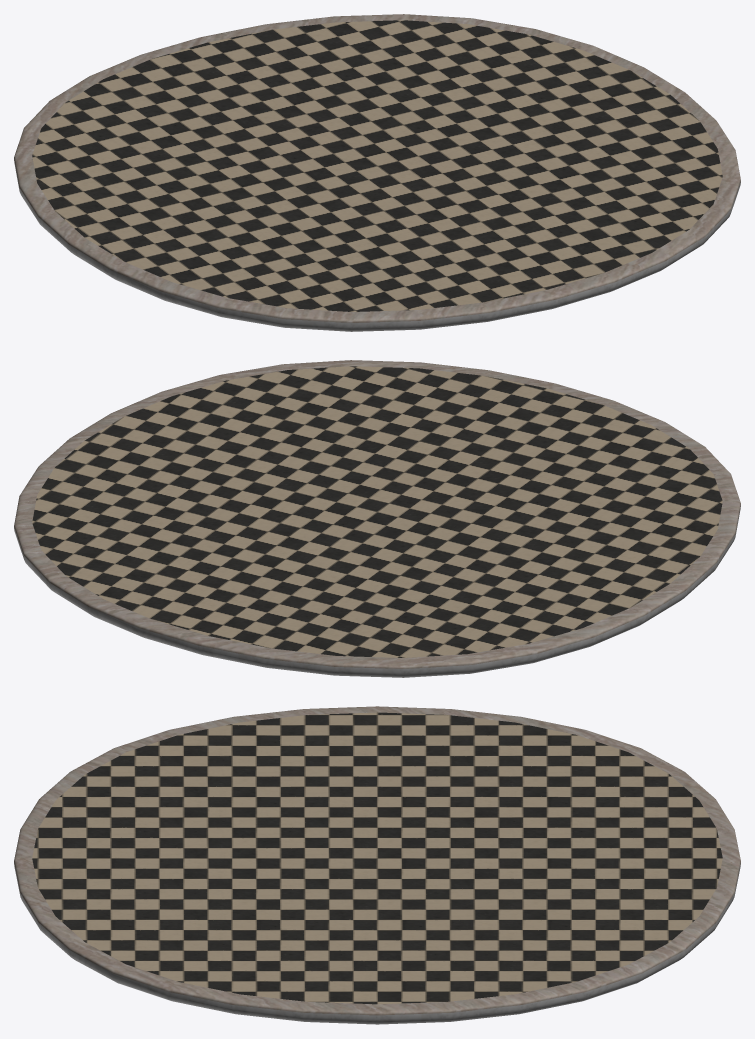
3 views of the same model, one above another, from view 1: azimuth 30°, elevation 25°; view 2: azimuth 150°, elevation 25°; view 3: azimuth 270°, elevation 25° (orthographic). The views are drawn at different scales.
Visible parts, largest first — view 1: M_Stage_0; view 2: M_Stage_0; view 3: M_Stage_0.
Part boxes in pixels (x1,y1,x2,y2): M_Stage_0: (14,14,740,331); M_Stage_0: (14,360,740,677); M_Stage_0: (14,706,740,1024).
Size of the model in its own units: 9.65 by 0.4881 by 9.65.
1 material, 1 textured.
